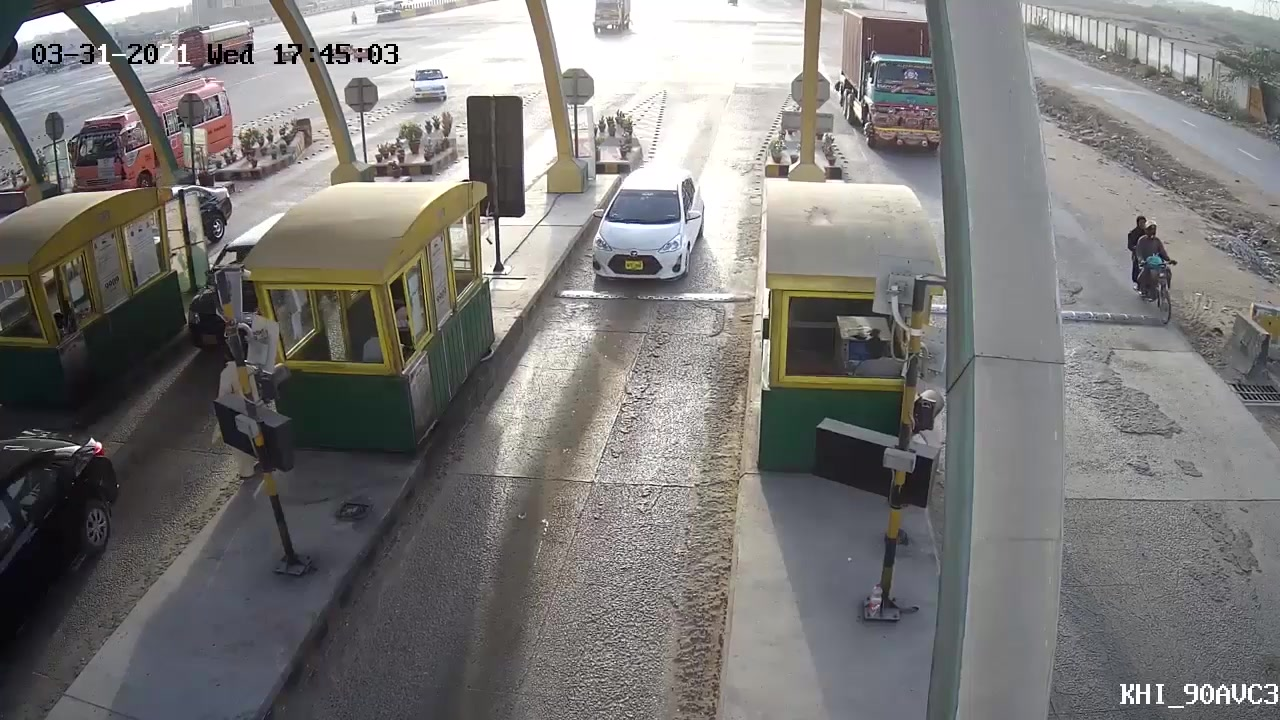F1: (589, 165, 705, 308)
